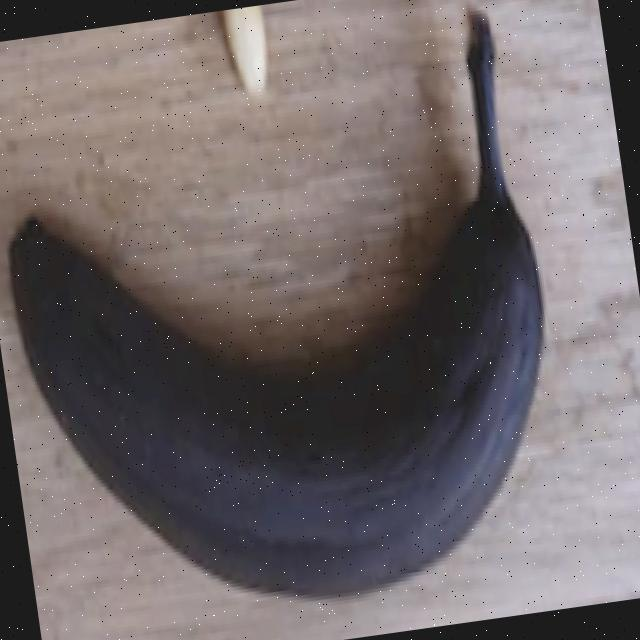Rotten: (0, 5, 585, 640)
